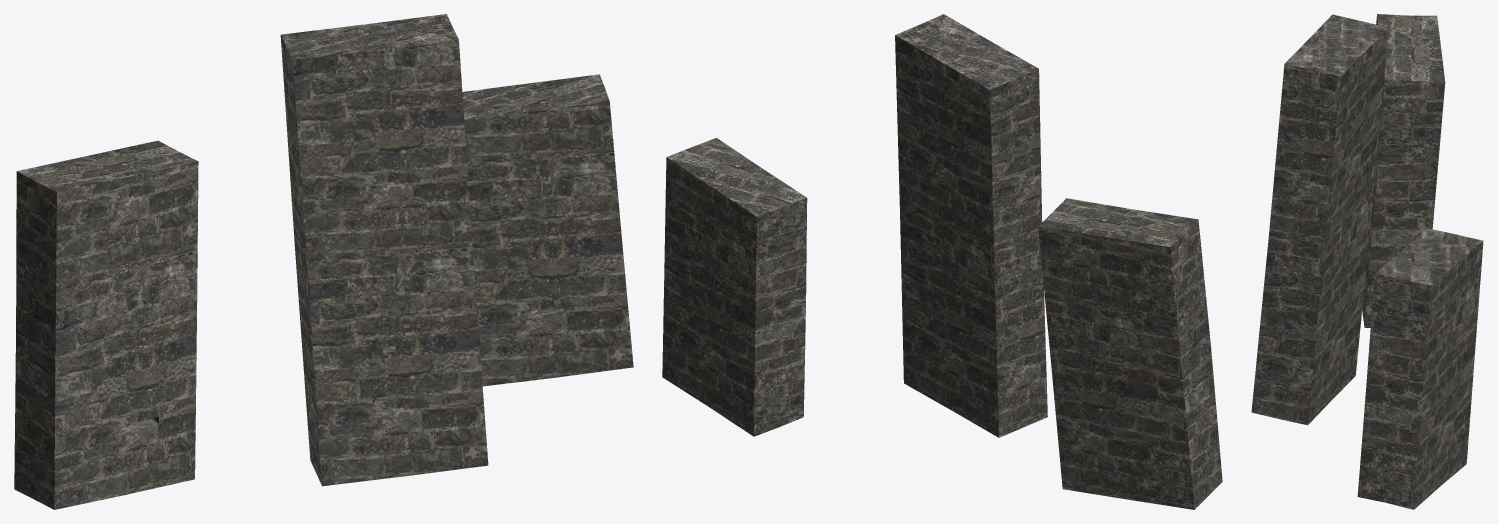
The model's file is inscribed-stones-v01.glb.
The picture shows the model from 3 angles, left to right: view 1: azimuth 30°, elevation 25°; view 2: azimuth 150°, elevation 25°; view 3: azimuth 270°, elevation 25°; orthographic projection. The views are drawn at different scales.
Visible parts, largest first — view 1: inscribed-stones; view 2: inscribed-stones; view 3: inscribed-stones.
Part boxes in pixels (x1,y1,x2,y2): inscribed-stones: [14, 14, 633, 509]; inscribed-stones: [662, 14, 1222, 509]; inscribed-stones: [1251, 14, 1483, 509].
Size of the model in its own units: 2.91 by 1.96 by 1.15.
1 material, 1 textured.
